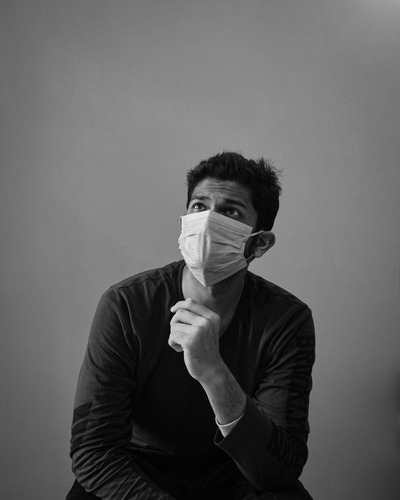with_mask: (188, 189, 254, 284)
